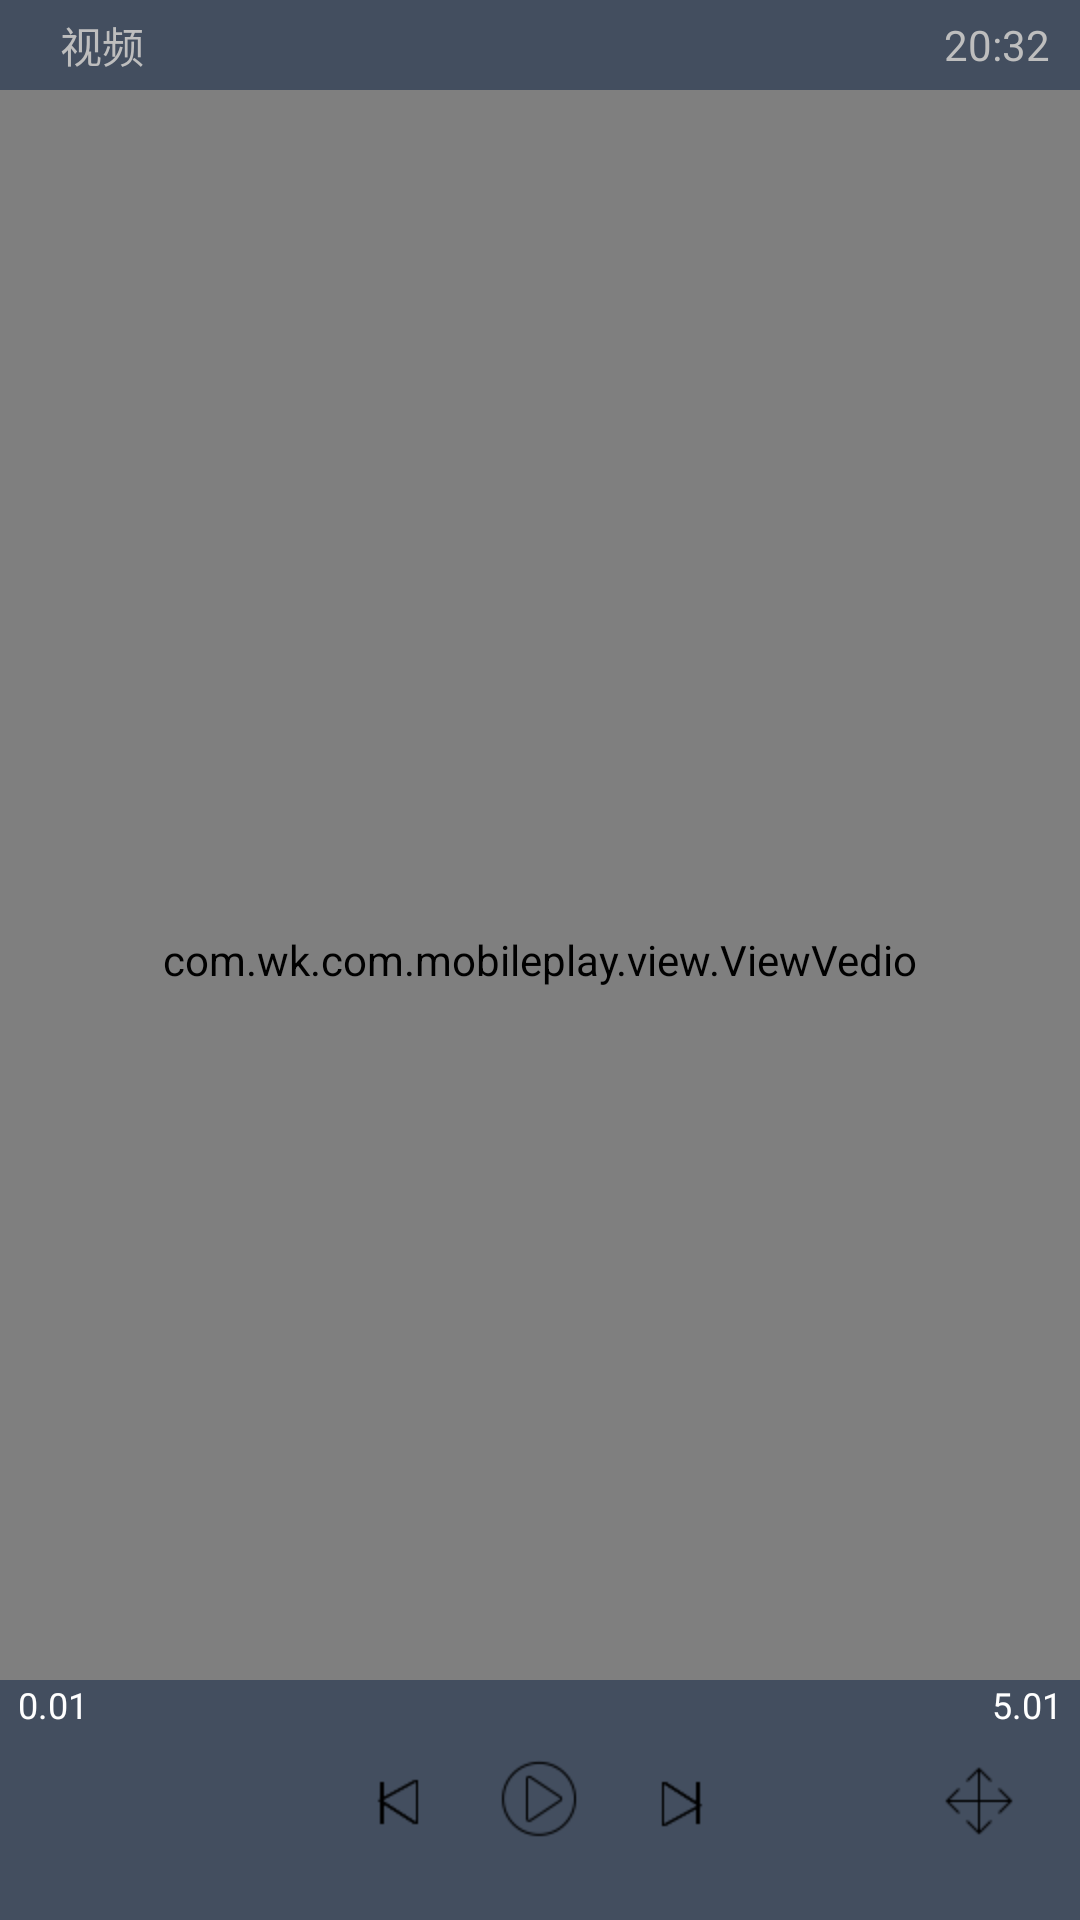

Icon click points for this 1080 x 1920 phone screenshot, format point (x, y):
next: point (682, 1804)
player full screen: point (979, 1801)
playing: point (539, 1798)
